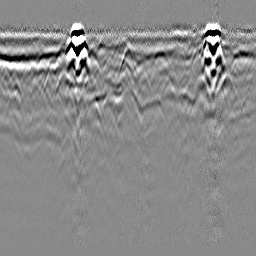cavity: (117, 42, 137, 75)
